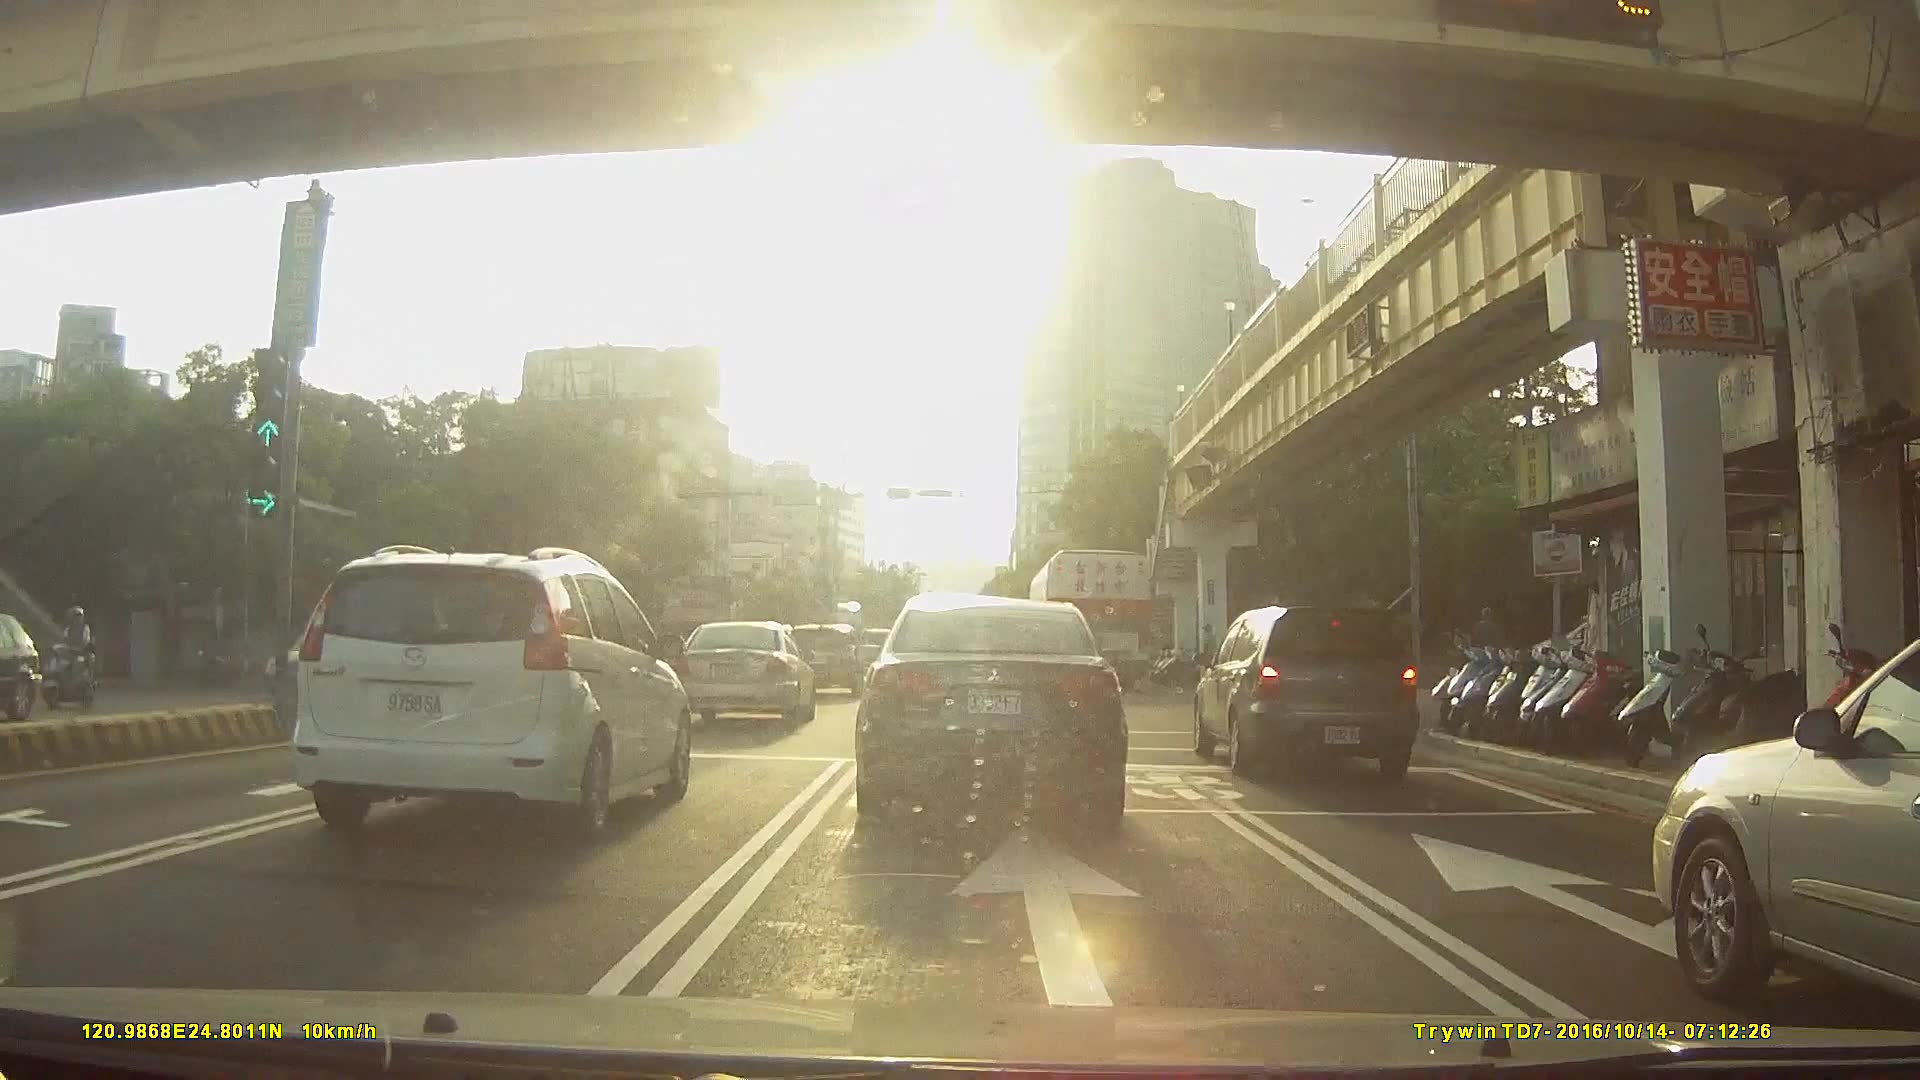pedestrian: (1205, 619, 1232, 682)
rider: (35, 604, 97, 711)
vehicle: (289, 542, 696, 842), (1648, 640, 1920, 1012), (852, 590, 1127, 833), (1194, 602, 1420, 777), (1026, 547, 1151, 690), (675, 618, 815, 725), (779, 623, 863, 696)
